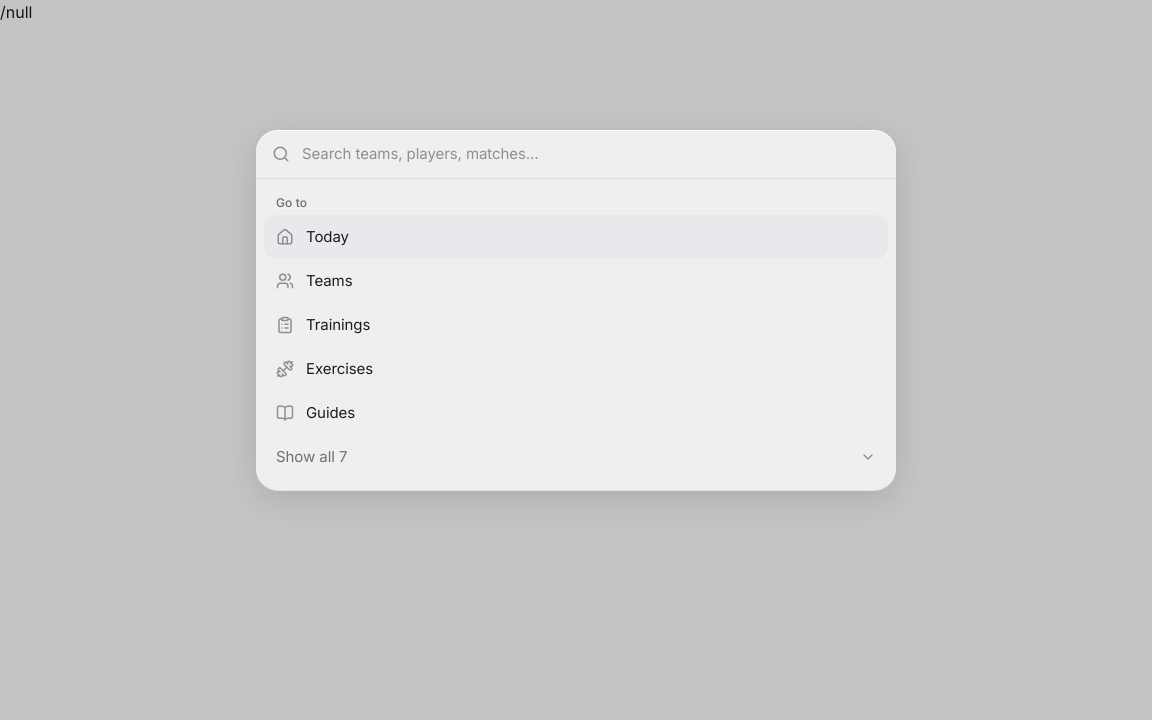
Test case: SearchPalette › typing collapses expanded groups again
Type "anna" into the dropdown at (591,154), box [302,130,880,178]
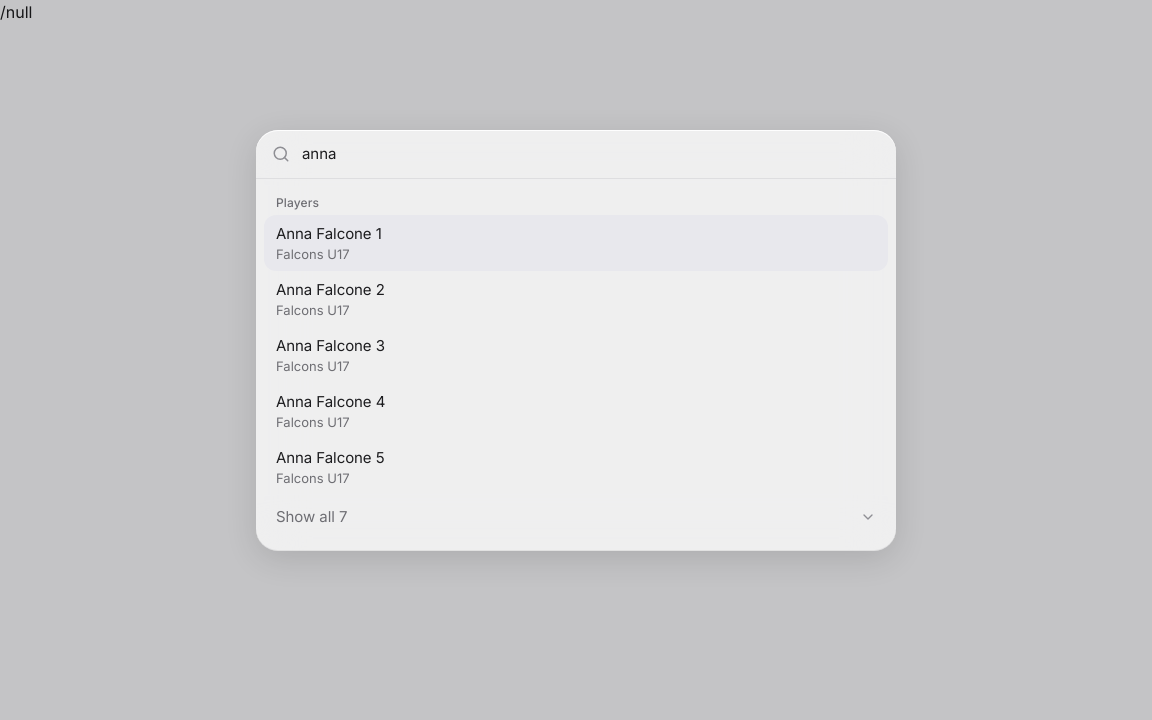
Click the option "Show all 7" at (312,516), box [276,507,876,526]
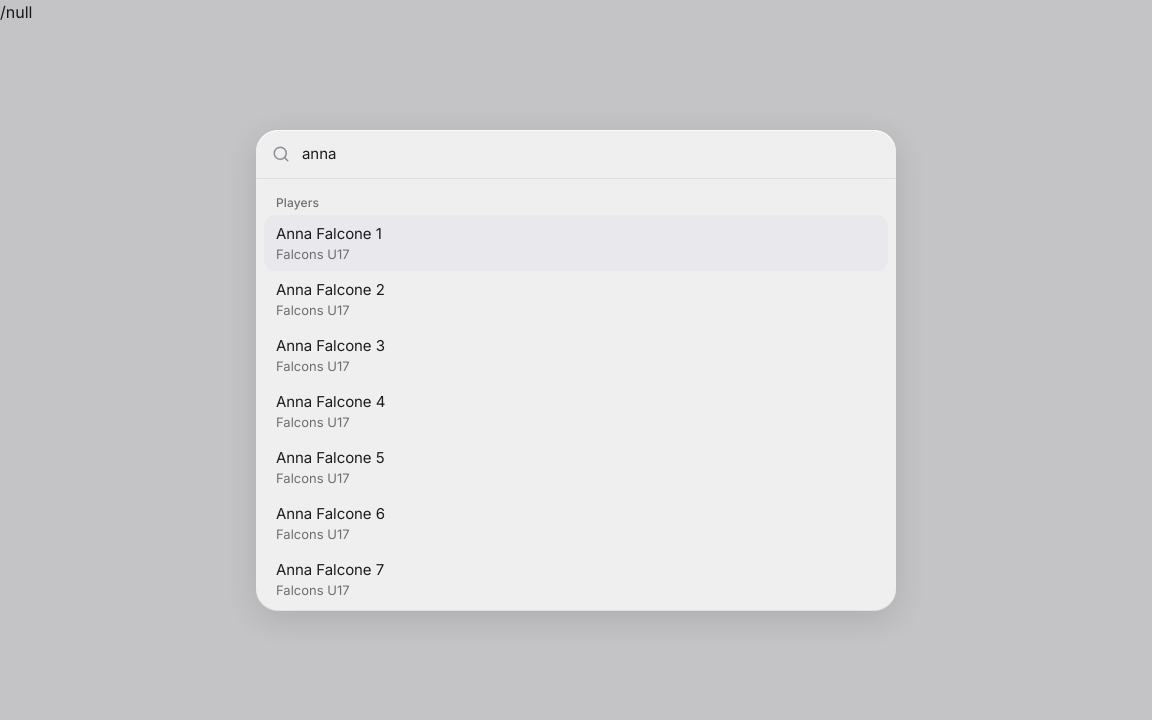
expect the number of options is 7: met
Replace the text in the dropdown with "anna f" at (591,154), box [302,130,880,178]
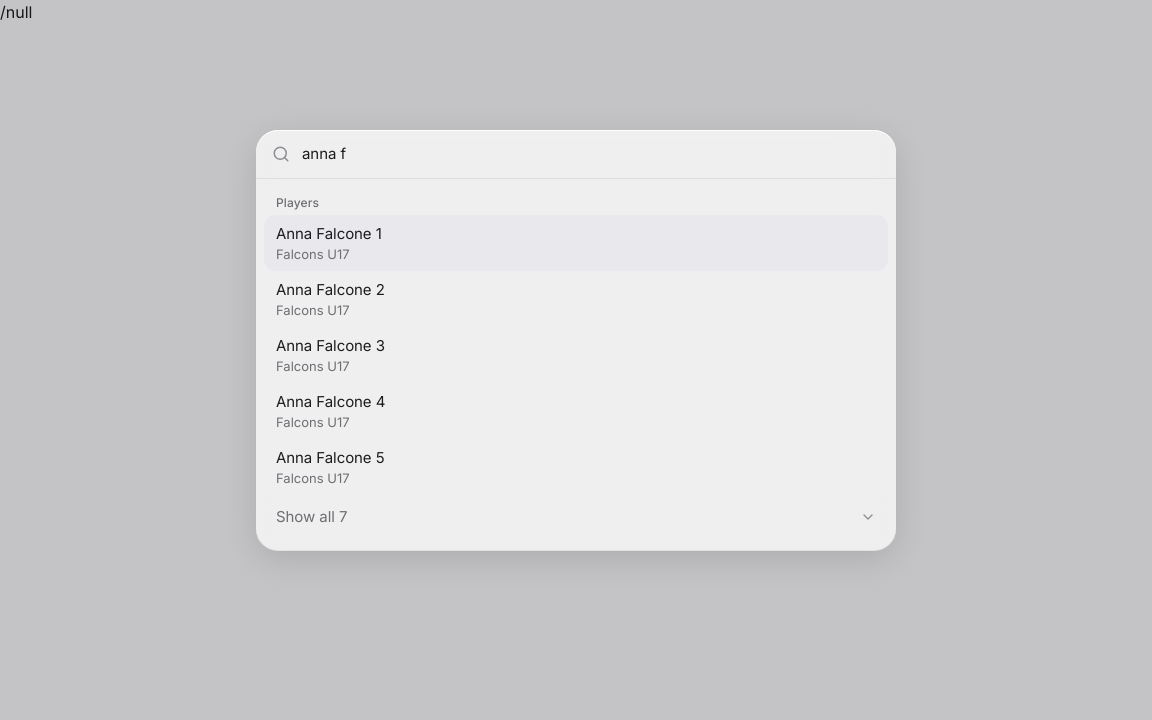
expect the number of options is 6: met, box [264,215,888,271]; [276,280,385,318]; [276,336,385,374]; [276,392,385,430]; [276,448,384,486]; [276,507,876,526]
